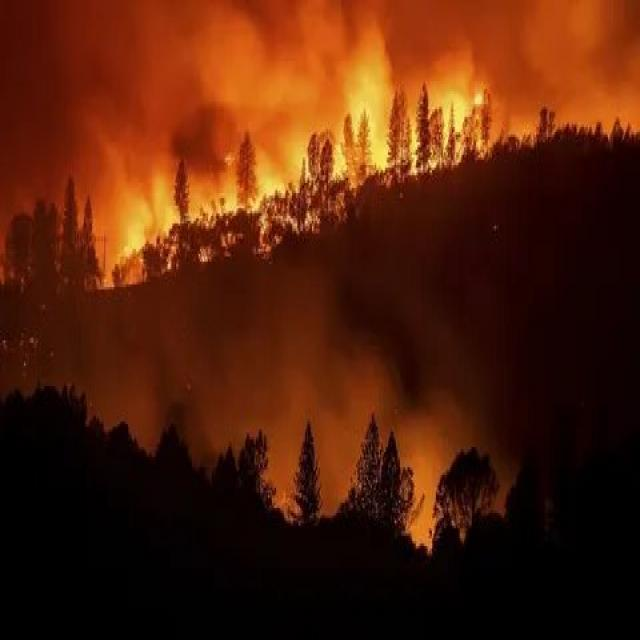Fire: (28, 29, 494, 317)
